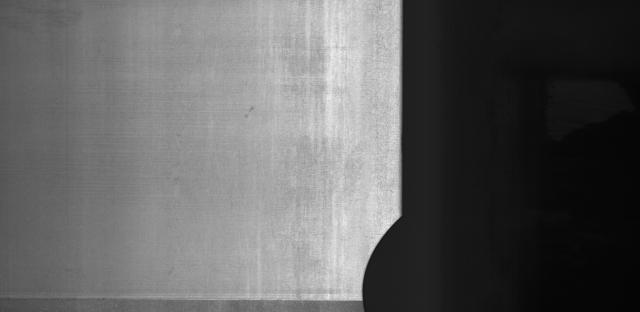crescent_gap: (337, 207, 411, 312)
welding_line: (0, 289, 310, 308)
